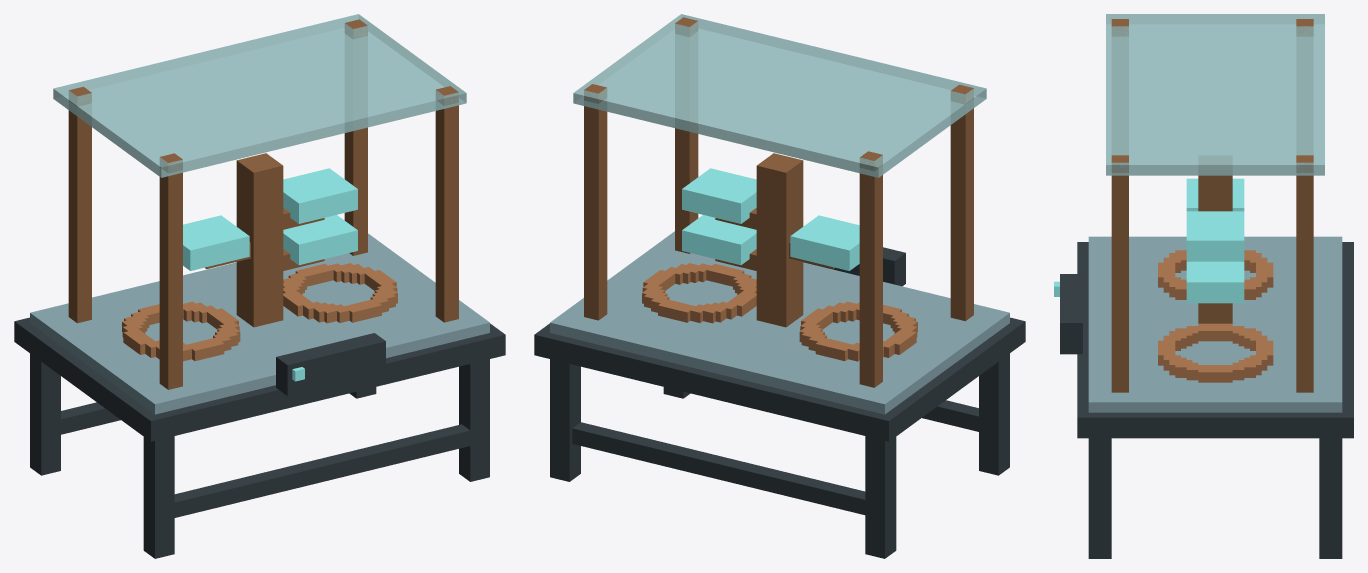
The model's file is arcane_studies_station_t6.glb.
The picture shows the model from 3 angles, left to right: view 1: azimuth 30°, elevation 25°; view 2: azimuth 150°, elevation 25°; view 3: azimuth 270°, elevation 25°; orthographic projection.
Parts seen in each view (by area): view 1: arcane_studies_station_t6/growth_chamber, arcane_studies_station_t6/work_surface, arcane_studies_station_t6/frame; view 2: arcane_studies_station_t6/growth_chamber, arcane_studies_station_t6/work_surface, arcane_studies_station_t6/frame; view 3: arcane_studies_station_t6/growth_chamber, arcane_studies_station_t6/work_surface, arcane_studies_station_t6/frame.
Part boxes in pixels (x1=…): arcane_studies_station_t6/growth_chamber: x1=53, y1=14, x2=466, y2=389; arcane_studies_station_t6/work_surface: x1=30, y1=233, x2=489, y2=414; arcane_studies_station_t6/frame: x1=14, y1=317, x2=505, y2=558; arcane_studies_station_t6/growth_chamber: x1=573, y1=14, x2=986, y2=387; arcane_studies_station_t6/work_surface: x1=550, y1=231, x2=1009, y2=414; arcane_studies_station_t6/frame: x1=534, y1=317, x2=1025, y2=558; arcane_studies_station_t6/growth_chamber: x1=1106, y1=14, x2=1324, y2=392; arcane_studies_station_t6/work_surface: x1=1054, y1=236, x2=1342, y2=412; arcane_studies_station_t6/frame: x1=1077, y1=242, x2=1353, y2=558.
Size of the model in its own units: 2.25 by 2.31 by 1.62.
